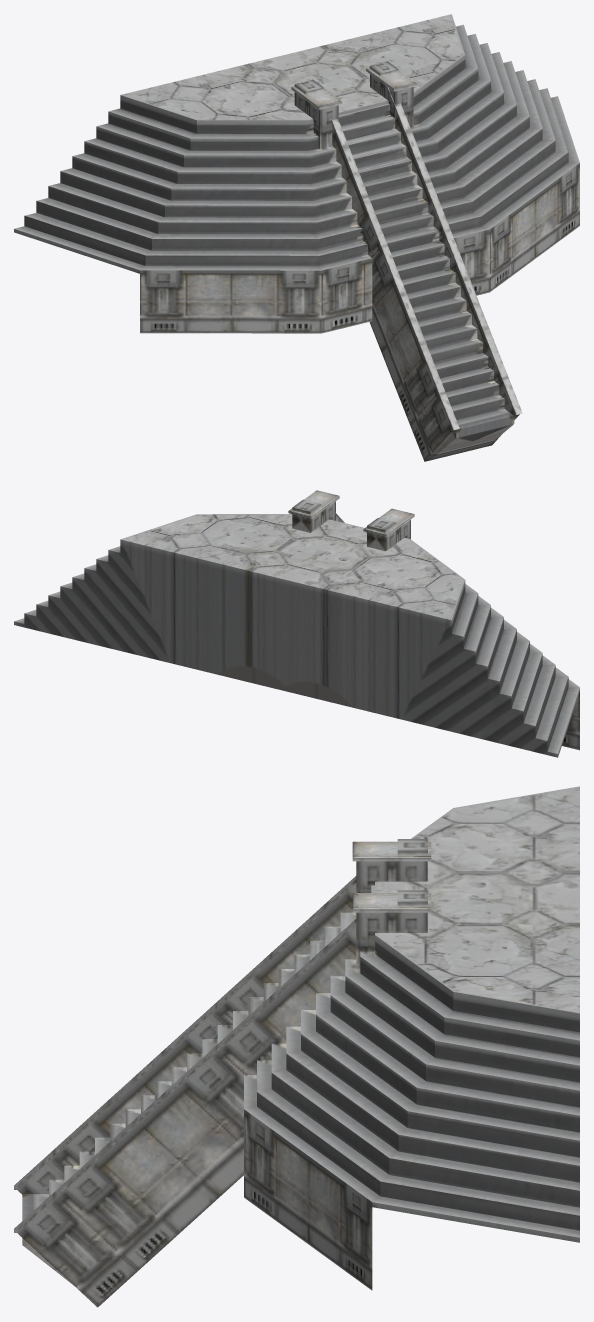
Rendered from s_main_stairs_cad.glb.
3 views of the same model, one above another, from view 1: azimuth 30°, elevation 25°; view 2: azimuth 150°, elevation 25°; view 3: azimuth 270°, elevation 25° (orthographic). The views are drawn at different scales.
Parts seen in each view (by area): view 1: S_HC_Stairs; view 2: S_HC_Stairs; view 3: S_HC_Stairs.
Boxes of the visible parts, bbox=[...] form: S_HC_Stairs: bbox=[14, 14, 579, 461]; S_HC_Stairs: bbox=[14, 490, 579, 757]; S_HC_Stairs: bbox=[14, 786, 579, 1307].
Size of the model in its own units: 47.5 by 24.59 by 30.48.
Materials: 1 (1 with a texture image).
